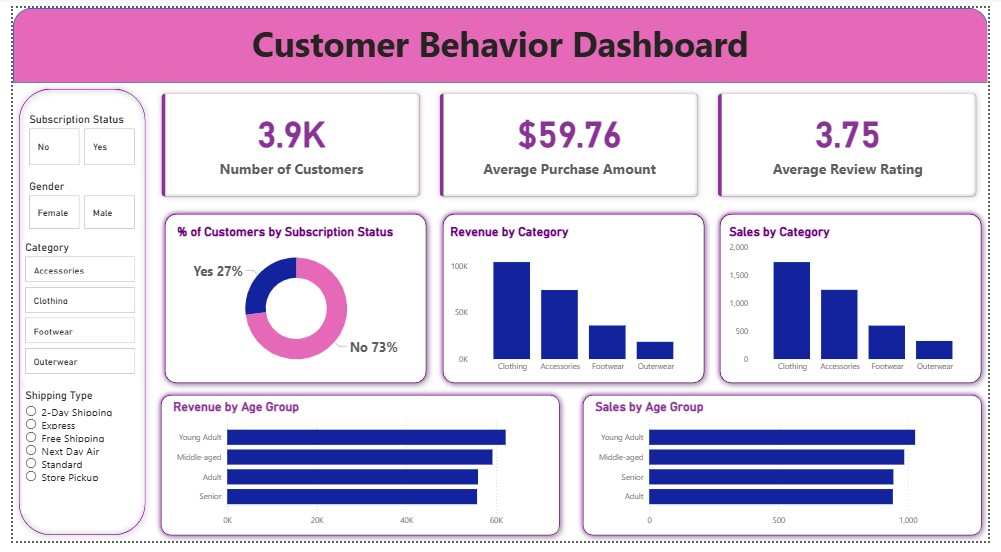

This screenshot's page, from the dashboard's own definition file:
{"tool":"powerbi","page":{"name":"Page 1","canvas":[1500,820],"ordinal":0},"visuals":[{"type":"cardVisual","fields":{"Data":["public customer.Number of Customers","public customer.Average Purchase Amount","public customer.Average Review Rating"]},"box":[212.9,115.3,1286.5,191.6],"z":2000},{"type":"shape","box":[218.3,585.6,631.7,234.2],"z":2500,"group":"g1"},{"type":"shape","box":[0,0,1499.4,115.3],"z":3000},{"type":"textbox","box":[0,12.4,1499.4,102.9],"z":4000},{"type":"shape","box":[225.4,307,420.5,278.6],"z":5000},{"type":"donutChart","title":"% of Customers by Subscription Status","fields":{"Category":["public customer.subscription_status"],"Y":["CountNonNull(public customer.customer_id)"]},"box":[248.4,331.8,376.2,237.8],"z":6000},{"type":"shape","box":[1078.9,307,420.5,278.6],"z":7000},{"type":"shape","box":[652.1,307,420.5,278.6],"z":8000},{"type":"clusteredColumnChart","title":"Revenue by Category","fields":{"Y":["Sum(public customer.purchase_amount)"],"Category":["public customer.category"]},"box":[667.2,331.8,385.1,237.8],"z":9000},{"type":"clusteredColumnChart","title":"Sales by Category","fields":{"Y":["CountNonNull(public customer.customer_id)"],"Category":["public customer.category"]},"box":[1096.6,331.8,385.1,237.8],"z":10000},{"type":"shape","box":[0,115.3,212.9,704.5],"z":11000},{"type":"advancedSlicerVisual","fields":{"Values":["public customer.subscription_status"]},"box":[19.5,161.5,173.9,85.2],"z":12000},{"type":"advancedSlicerVisual","fields":{"Values":["public customer.gender"]},"box":[20,264.4,173.3,80],"z":13000},{"type":"advancedSlicerVisual","fields":{"Values":["public customer.category"]},"box":[14.5,358.2,179.1,211.8],"z":14000},{"type":"listSlicer","fields":{"Values":["public customer.shipping_type"]},"box":[14.5,585.5,169.1,220],"z":15000},{"type":"shape","box":[867.7,585.6,631.7,234.2],"z":16000},{"type":"clusteredBarChart","title":"Sales by Age Group","fields":{"Y":["CountNonNull(public customer.customer_id)"],"Category":["public customer.age_group"]},"box":[890.8,601.5,585.6,204.1],"z":17000},{"type":"clusteredBarChart","title":"Revenue by Age Group","fields":{"Y":["Sum(public customer.purchase_amount)"],"Category":["public customer.age_group"]},"box":[241.4,601.6,585.6,204.1],"z":17500,"group":"g1"},{"type":"group","id":"g1","title":"Group 1","box":[218.3,585.6,631.7,234.2],"z":17501}]}

Visuals, with their boxes in screenshot pixels (x1, y1, x2, y2), scaled from the page's 1500x820 canvas onto the 1001x552 screenshot:
cardVisual - public customer.Number of Customers x public customer.Average Purchase Amount: 142, 78, 1000, 207
shape: 146, 394, 567, 551
shape: 0, 0, 1000, 78
textbox: 0, 8, 1000, 78
shape: 150, 207, 431, 394
"% of Customers by Subscription Status" donutChart: 166, 223, 417, 383
shape: 720, 207, 1000, 394
shape: 435, 207, 716, 394
"Revenue by Category" clusteredColumnChart: 445, 223, 702, 383
"Sales by Category" clusteredColumnChart: 732, 223, 989, 383
shape: 0, 78, 142, 551
advancedSlicerVisual - public customer.subscription_status: 13, 109, 129, 166
advancedSlicerVisual - public customer.gender: 13, 178, 129, 232
advancedSlicerVisual - public customer.category: 10, 241, 129, 384
listSlicer - public customer.shipping_type: 10, 394, 123, 542
shape: 579, 394, 1000, 551
"Sales by Age Group" clusteredBarChart: 594, 405, 985, 542
"Revenue by Age Group" clusteredBarChart: 161, 405, 552, 542
"Group 1" group: 146, 394, 567, 551
